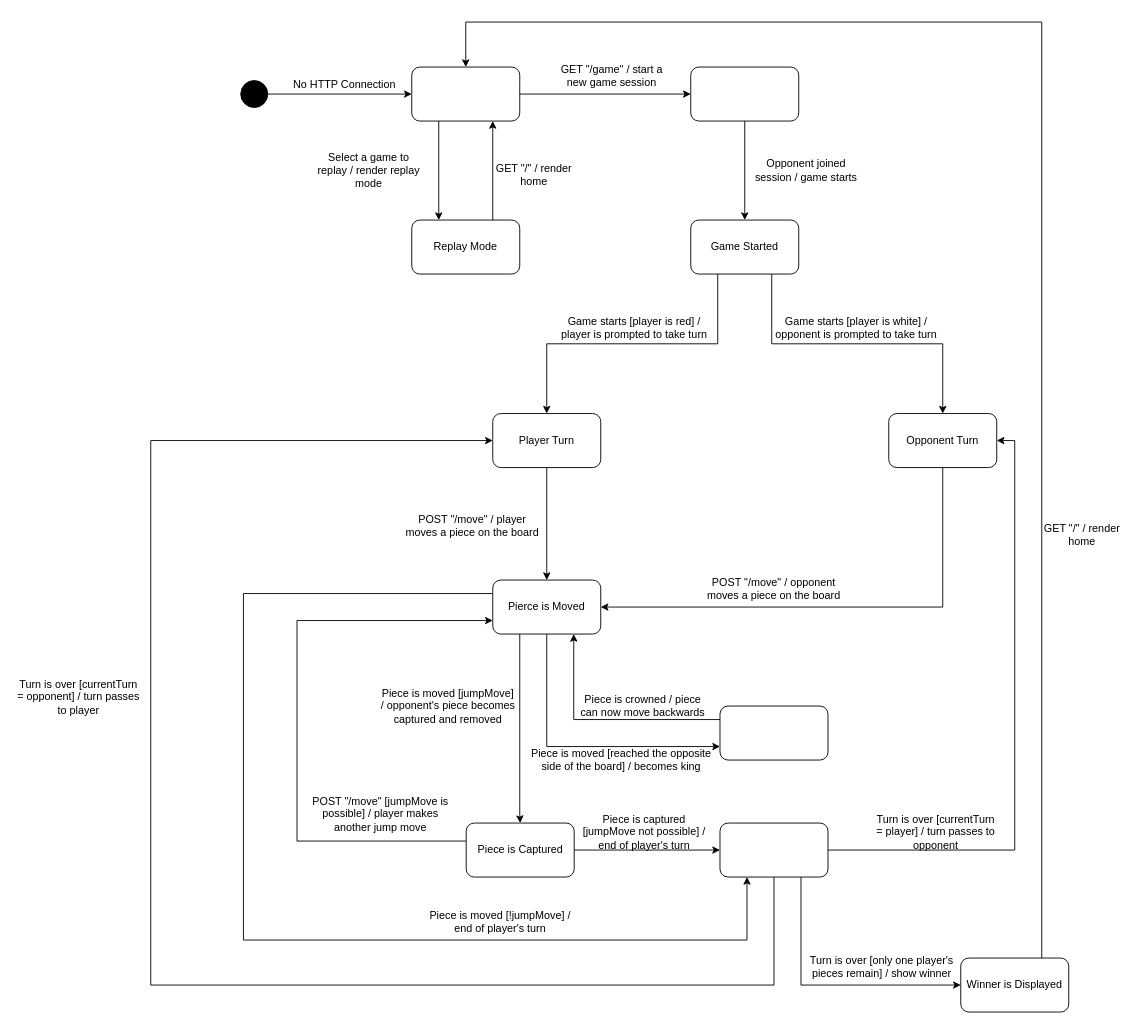
Some shapes in this 1138 by 1028 pixel diagram are drawn without their labels. The centre of each missing label's shape, as x and y in pixels:
Choose Opponent: the point at 744,93
Displaying Login Page: the point at 465,93
End of Turn: the point at 773,849
Piece is Crowned: the point at 773,732
